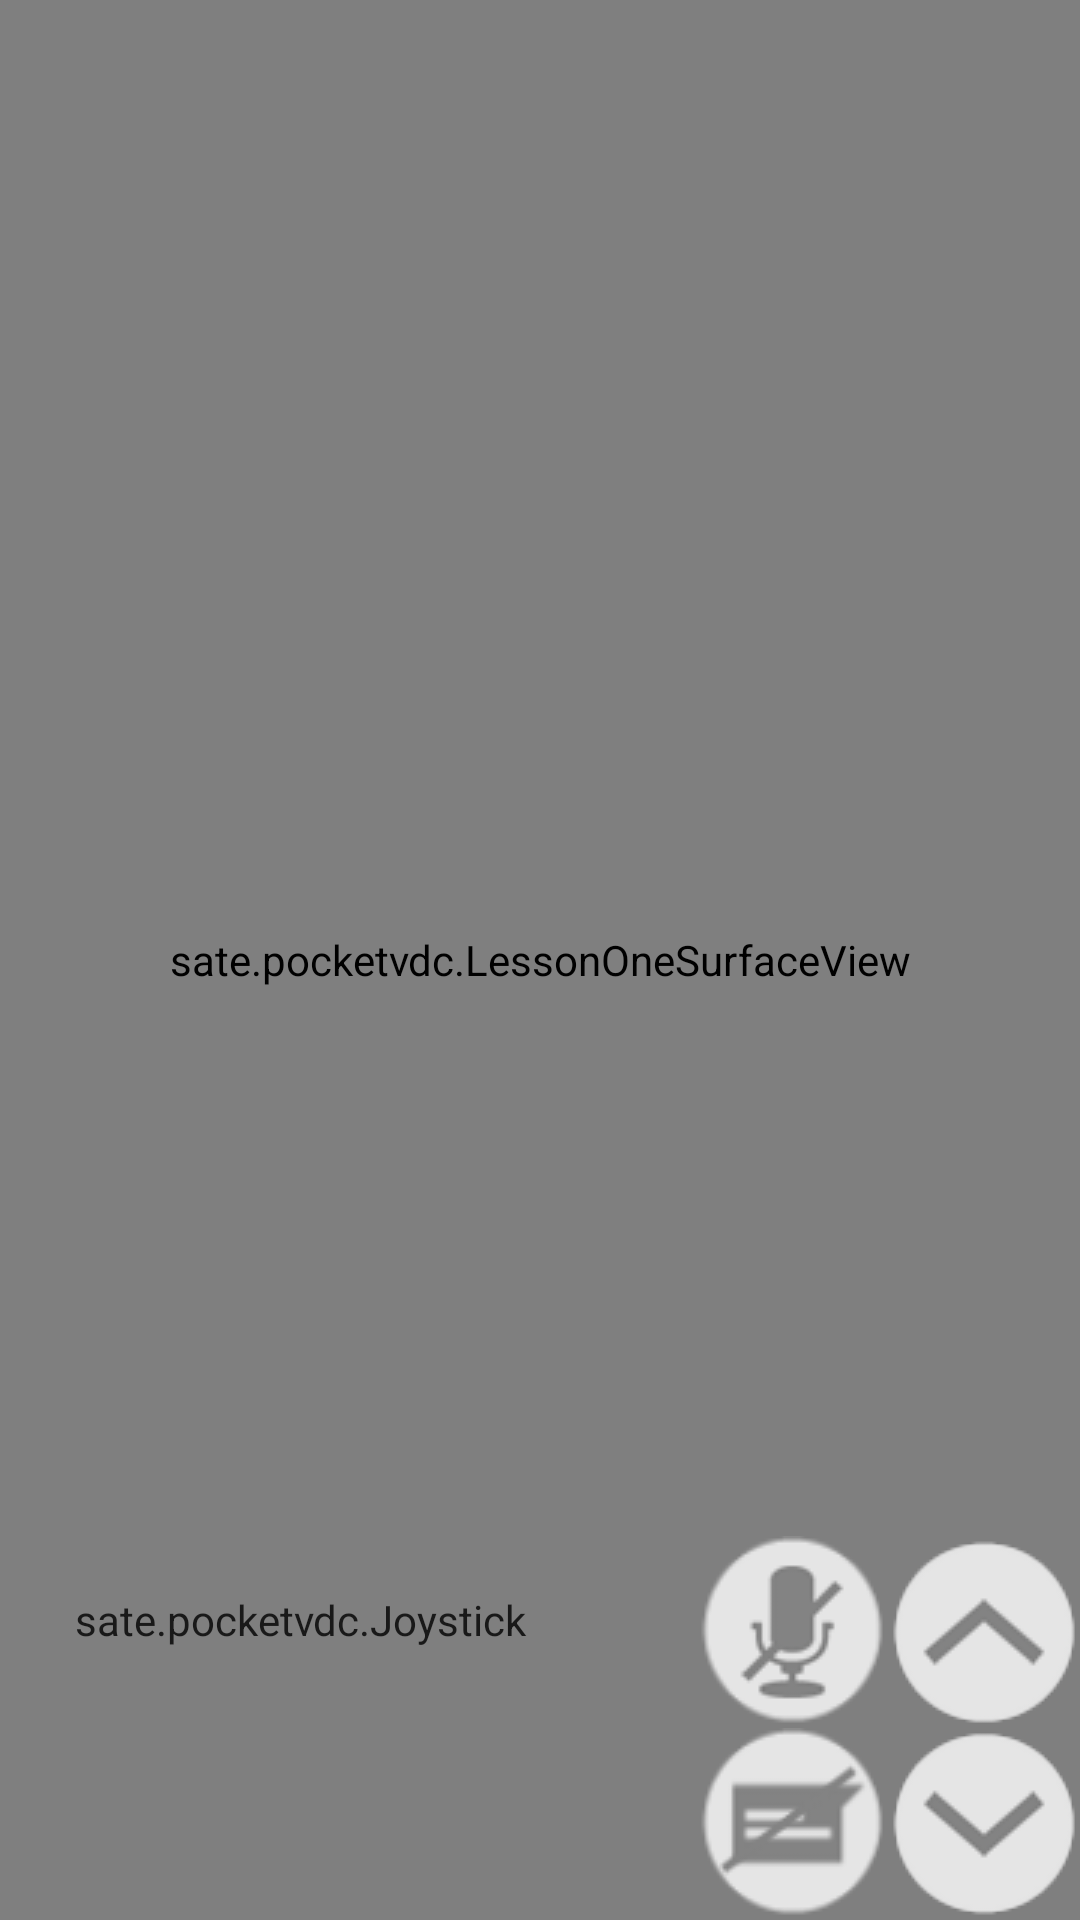

Screen size 1080 x 1920. Icon name, then its box in pixels as (x1, y1, x2, y2):
fly down: (894, 1733, 1075, 1914)
fly up: (894, 1542, 1075, 1723)
